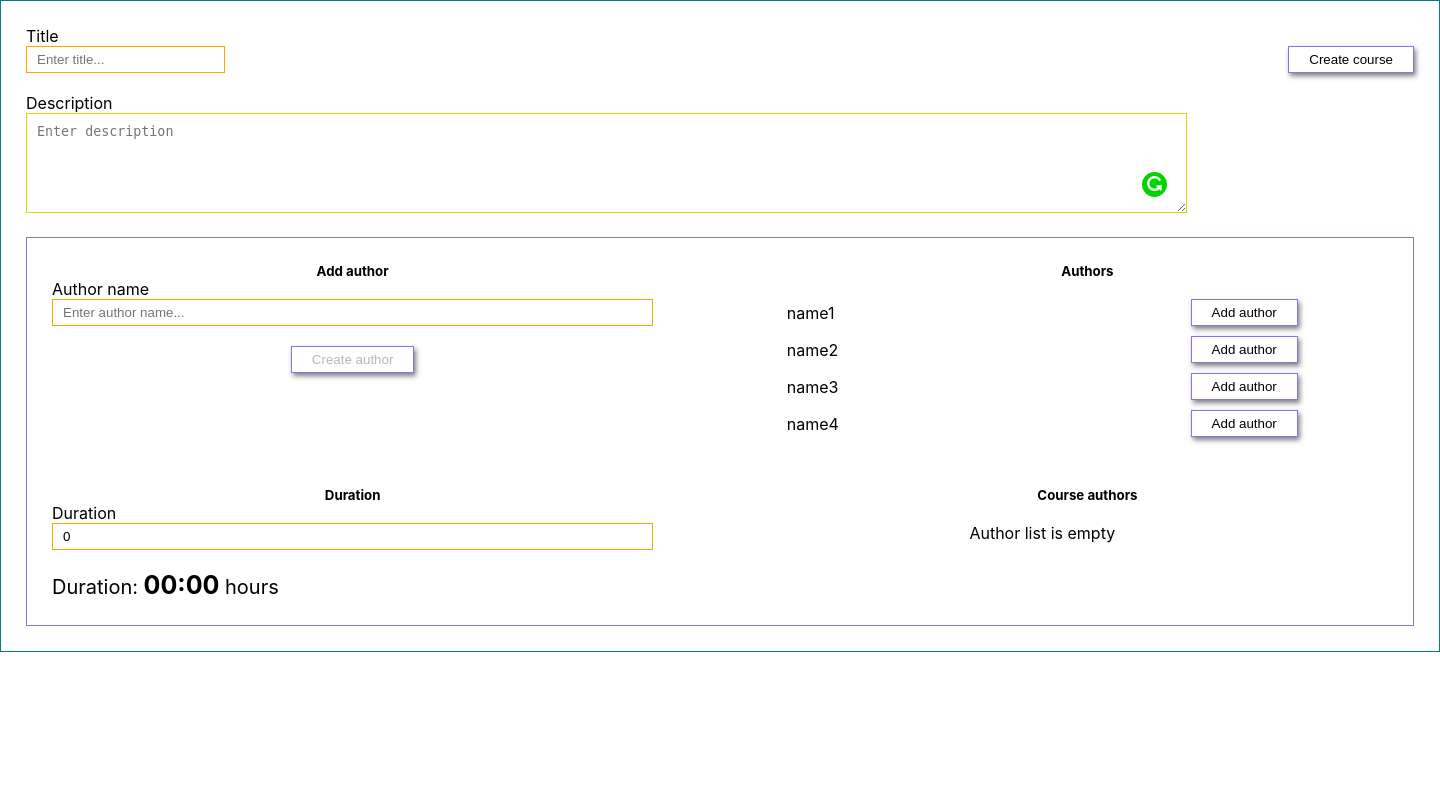
it: CourseForm component › 'Delete author' button click should delete an author from the course list
What coordinates should you click on to do the following:
click the button "Add author" in the row of "name1"
I would click on:
 (1244, 312)
Its box is x1=1191 y1=299 x2=1298 y2=326.
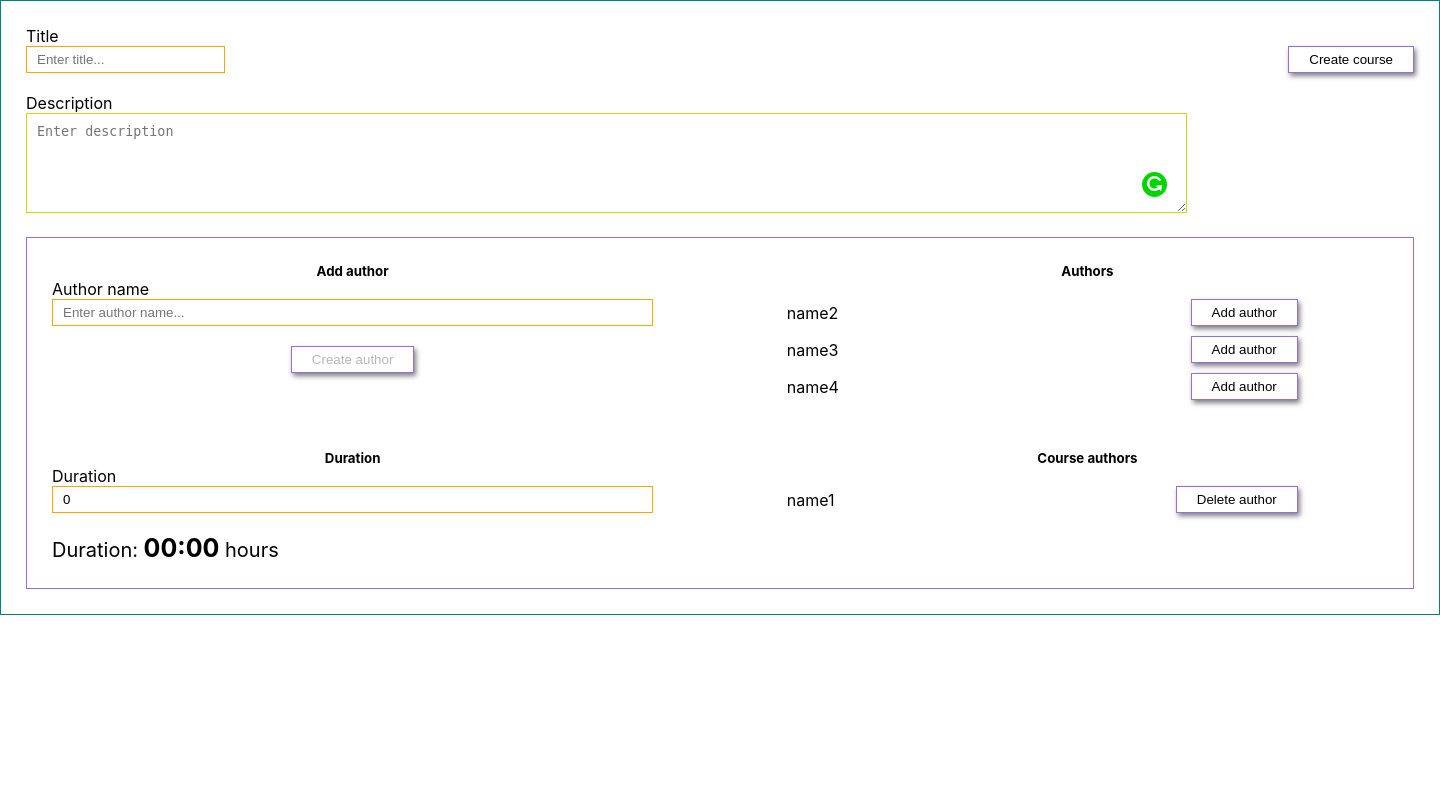
Check: the number of list items with test id "COURSE_AUTHOR_TEST_ID" is 1, box x1=787 y1=486 x2=1298 y2=523
What coordinates should you click on to do the following:
click the button "Delete author"
I would click on:
 (1237, 500)
Its box is x1=1176 y1=486 x2=1298 y2=513.
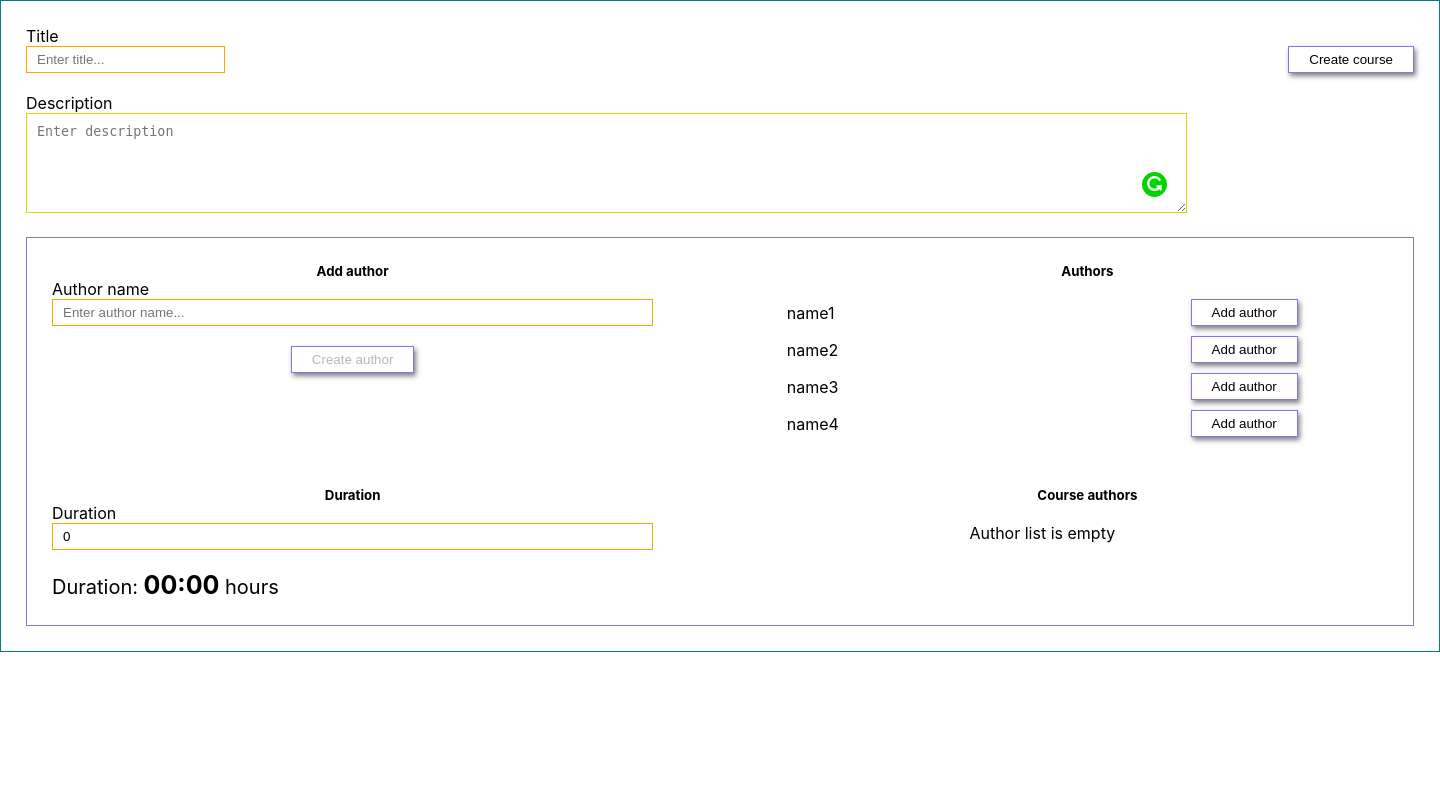
Check: no list items with test id "COURSE_AUTHOR_TEST_ID" are shown
